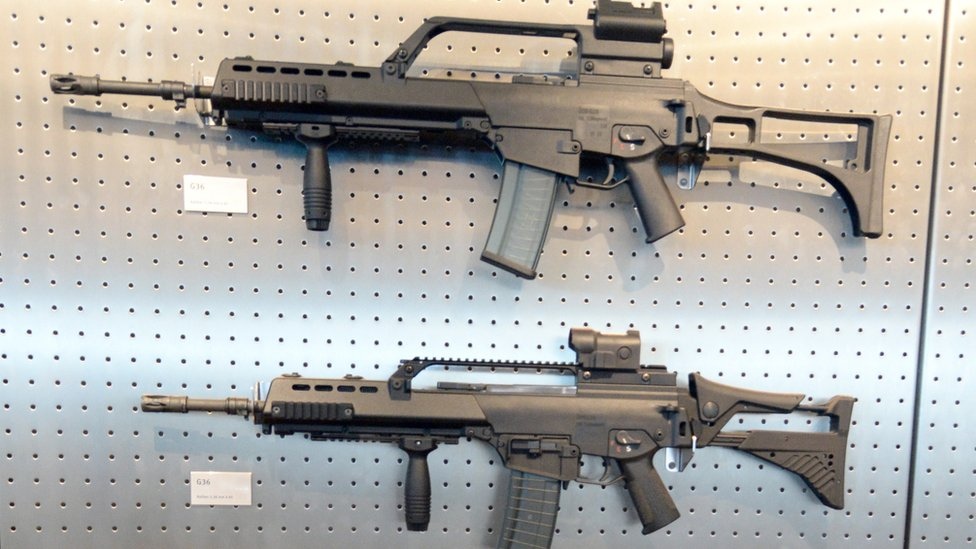Arma Real: (48, 6, 896, 281), (134, 328, 856, 549)
